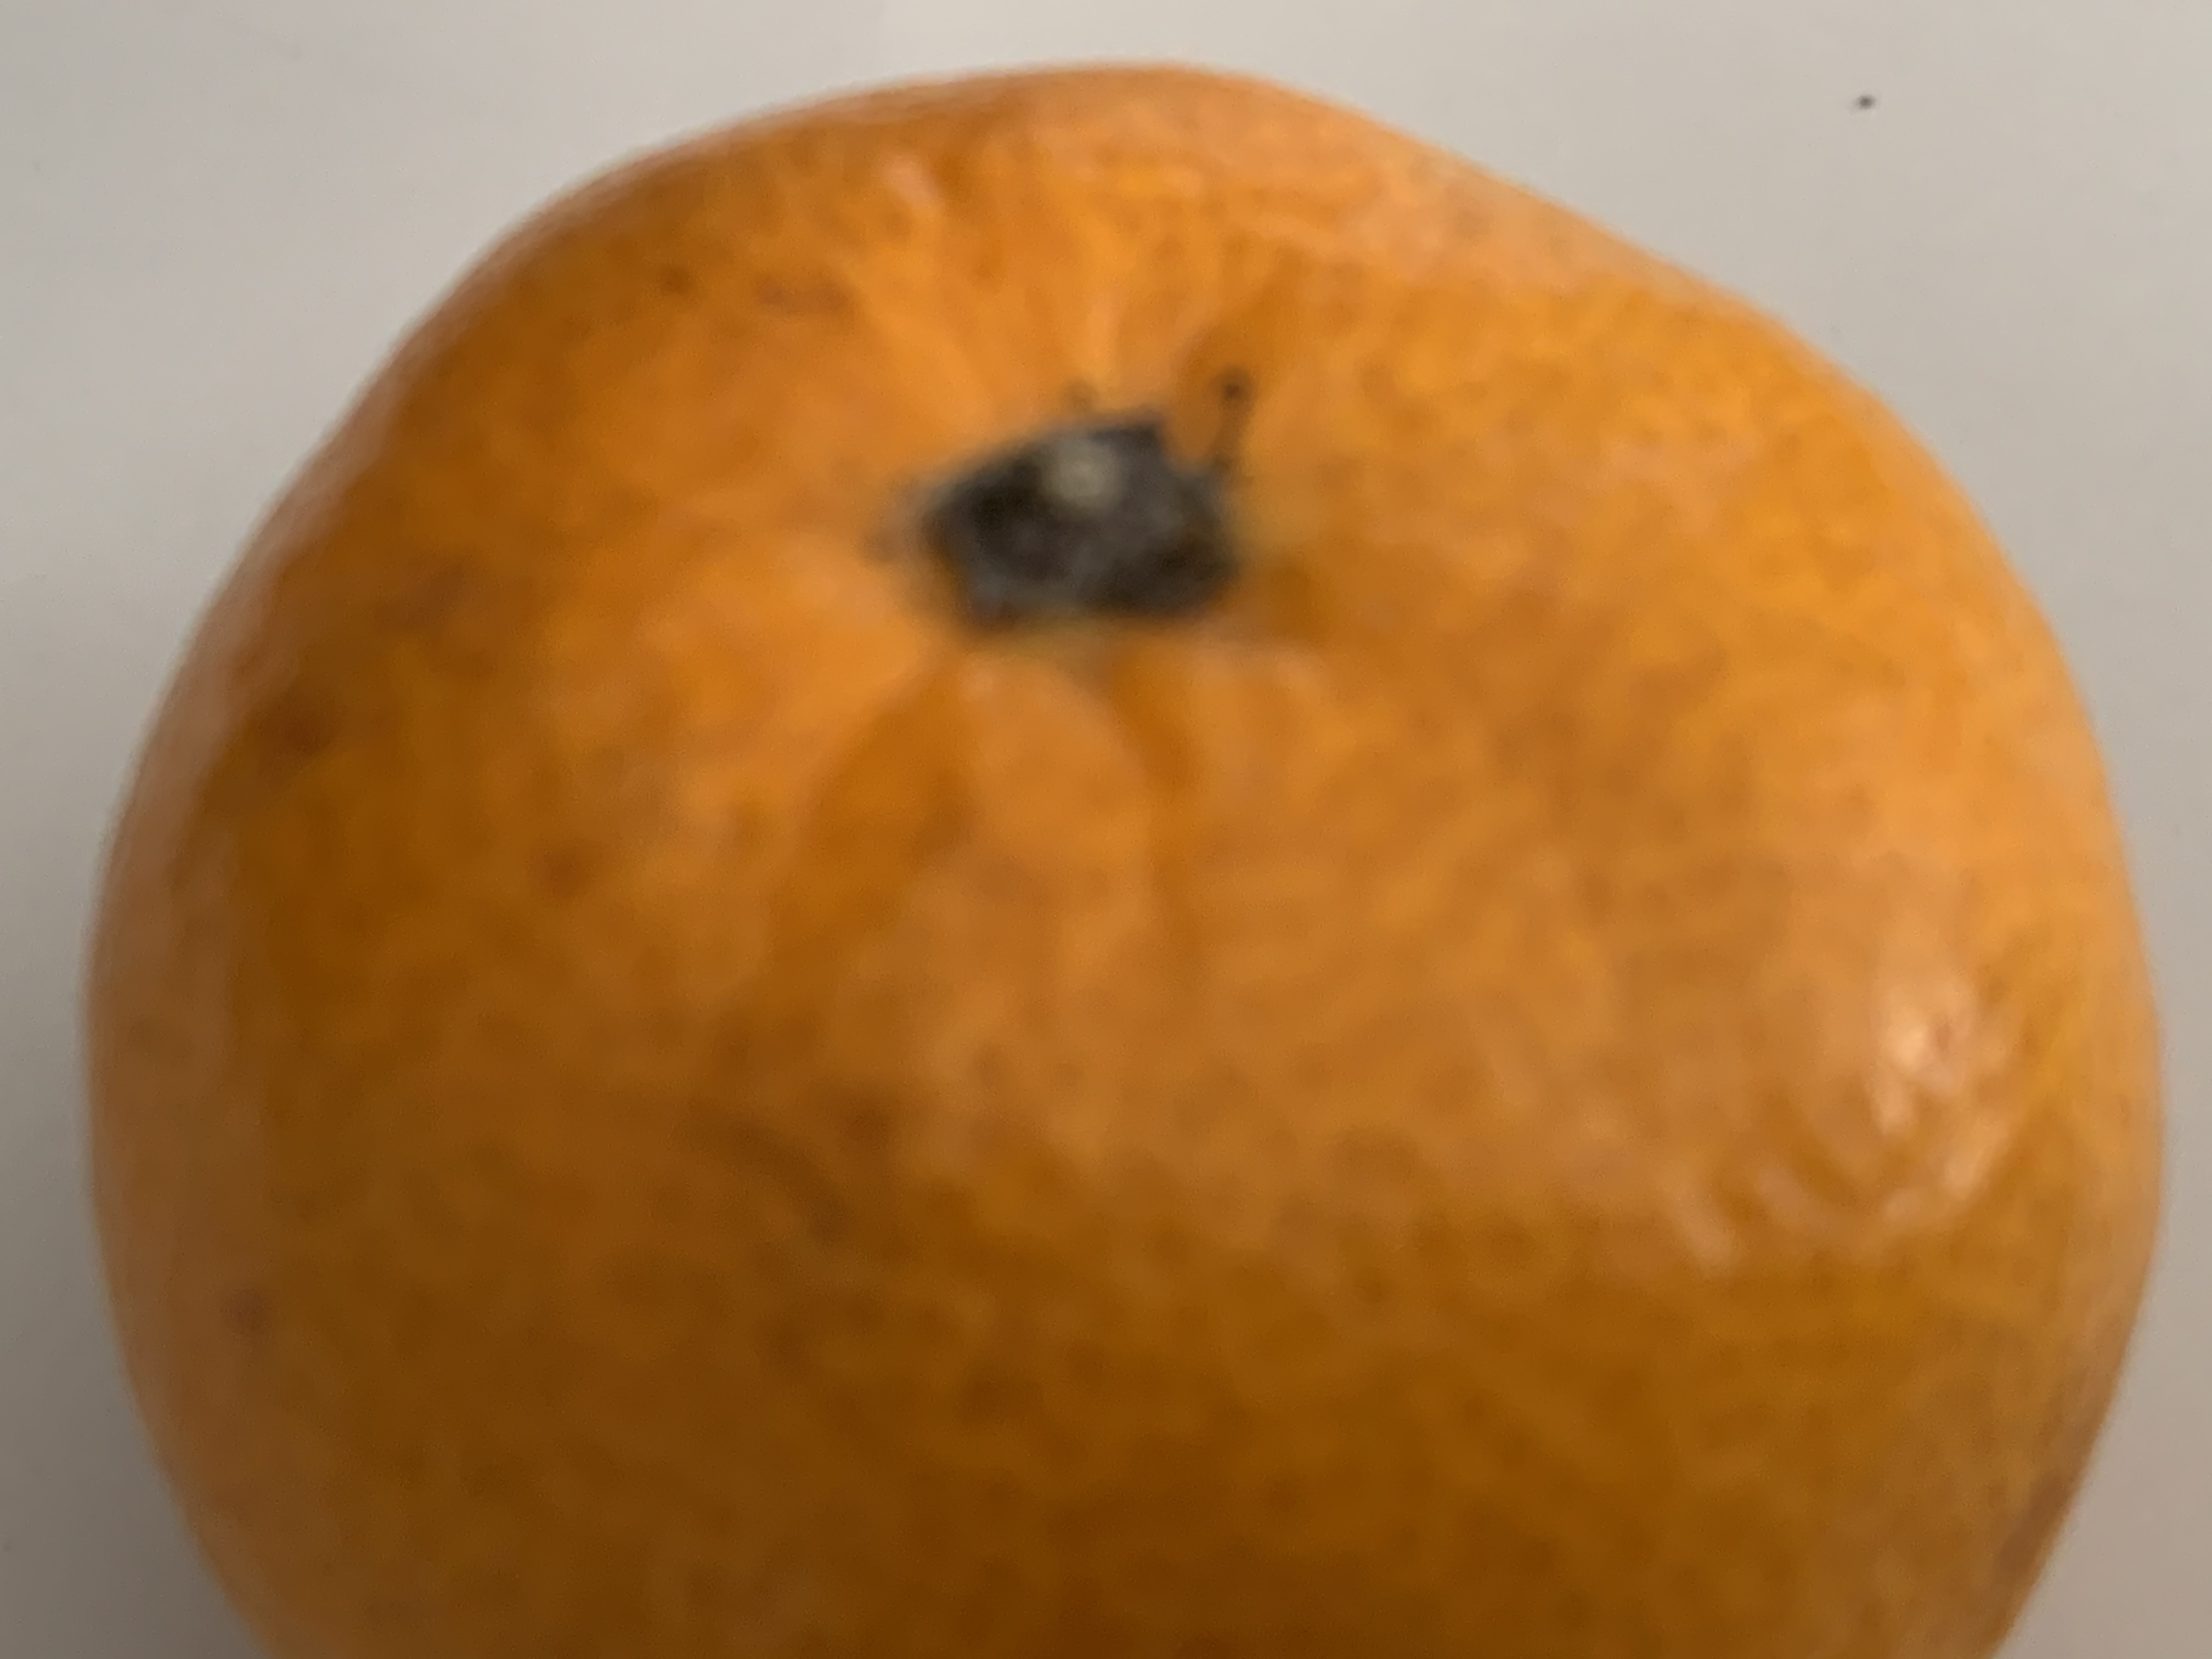orange: (127, 84, 2181, 1659)
